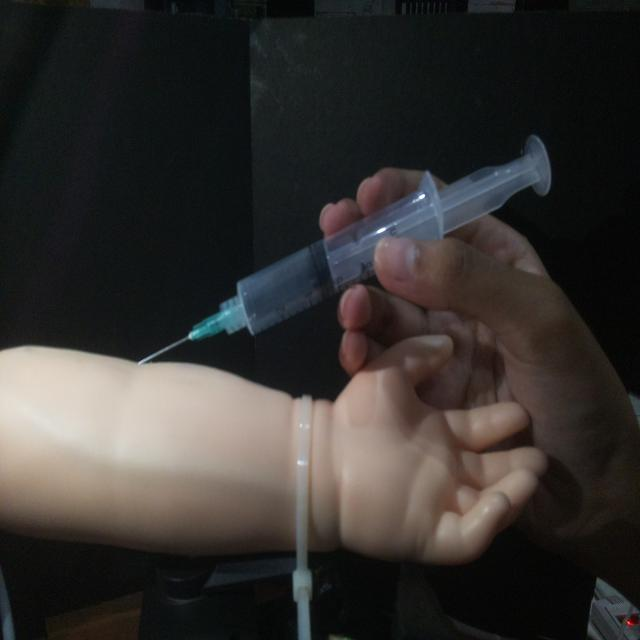23deg: (133, 128, 556, 368)
